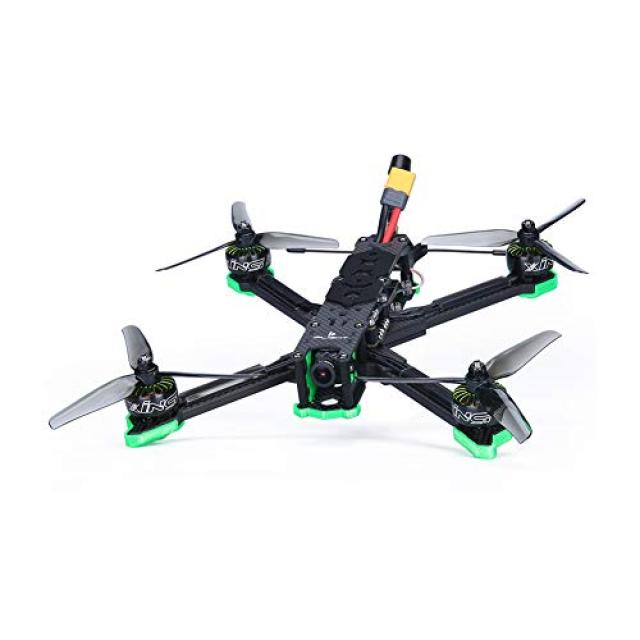drone: (12, 140, 640, 513)
